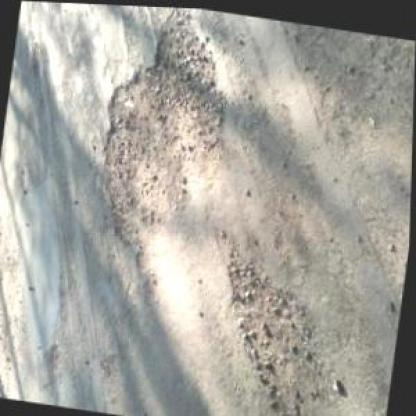pothole: (85, 3, 244, 269)
